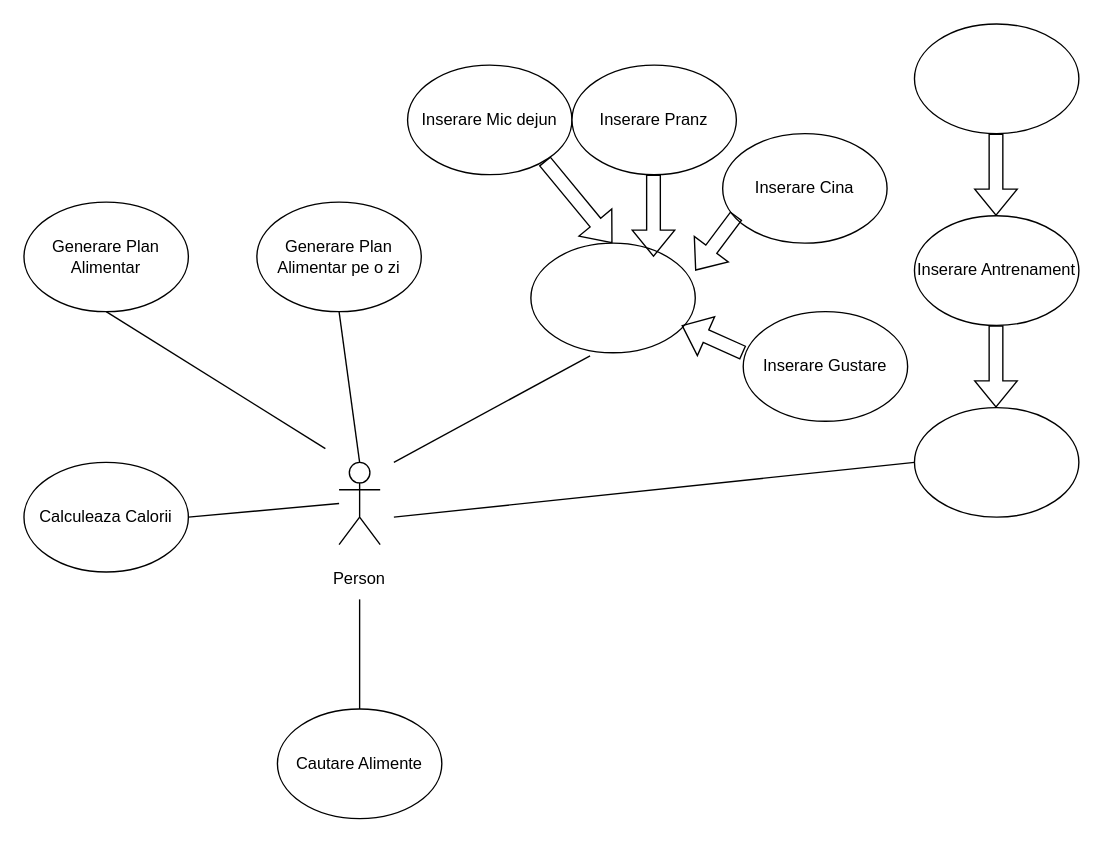
The diagram is 1103 pixels wide and 843 high, and some of its shapes have lost their labels. The centre of each missing label's shape, as x and y in pixels:
Actor: point (359, 503)
Inserare Aliment: point (612, 297)
Inserare Exercitiu: point (996, 461)
Inserare Plan de antrenament: point (996, 78)
